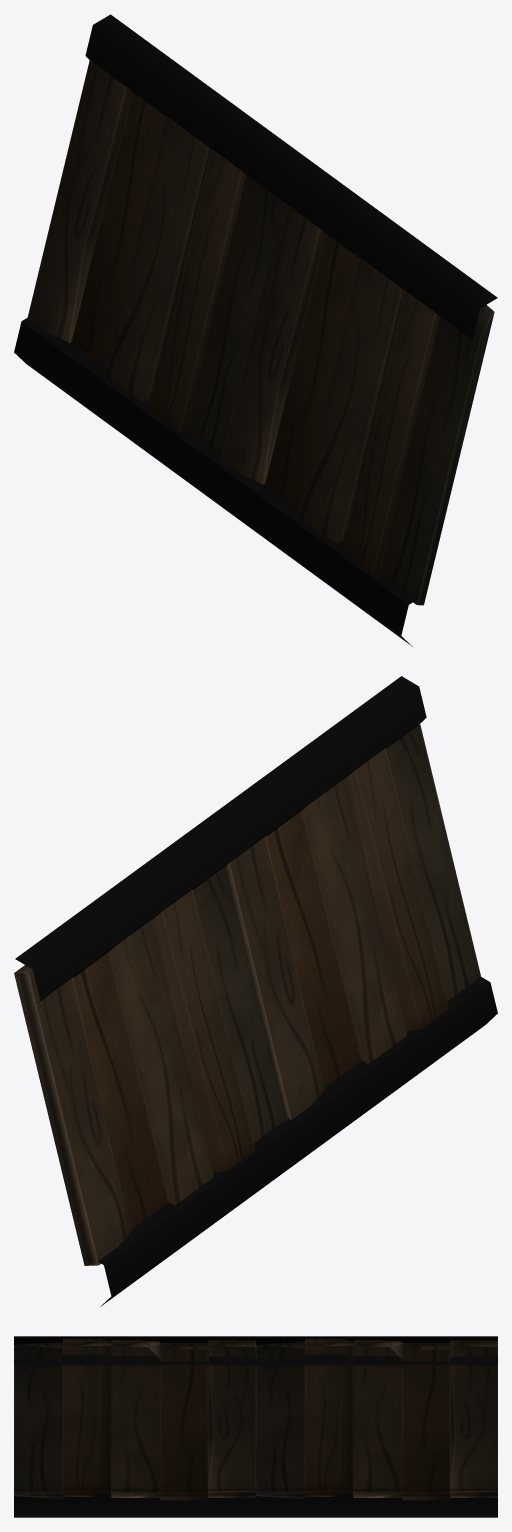
The model's file is Gare_1_Planche_Bois_Mur.fbx.
3 renders of one model, top to bottom at view 1: azimuth 30°, elevation 25°; view 2: azimuth 150°, elevation 25°; view 3: azimuth 270°, elevation 25°, orthographic. The views are drawn at different scales.
Visible parts, largest first — view 1: Gare_1_Planche_Bois_Mur; view 2: Gare_1_Planche_Bois_Mur; view 3: Gare_1_Planche_Bois_Mur.
Boxes of the visible parts, x1=… form: Gare_1_Planche_Bois_Mur: x1=14, y1=14, x2=497, y2=646; Gare_1_Planche_Bois_Mur: x1=14, y1=676, x2=497, y2=1306; Gare_1_Planche_Bois_Mur: x1=14, y1=1336, x2=497, y2=1517.
Size of the model in its own units: 0.6123 by 1.88 by 4.01.
